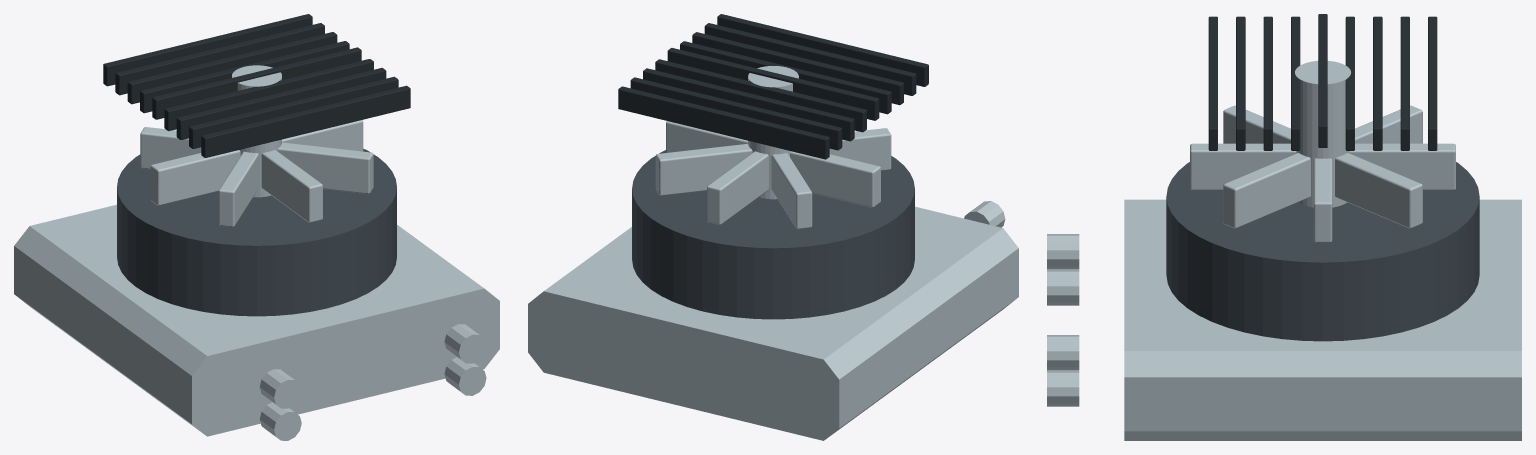
Rendered from data-centre-infiltration-kit-data-centre-infiltration--d4119225__29247.glb.
The picture shows the model from 3 angles, left to right: view 1: azimuth 30°, elevation 25°; view 2: azimuth 150°, elevation 25°; view 3: azimuth 270°, elevation 25°; orthographic projection. The views are drawn at different scales.
Visible parts, largest first — view 1: data-centre-infiltration-kit-fan-cartridge; view 2: data-centre-infiltration-kit-fan-cartridge; view 3: data-centre-infiltration-kit-fan-cartridge.
Part boxes in pixels (left/top/right/bottom): data-centre-infiltration-kit-fan-cartridge: left=14, top=14, right=499, bottom=440; data-centre-infiltration-kit-fan-cartridge: left=528, top=14, right=1018, bottom=440; data-centre-infiltration-kit-fan-cartridge: left=1047, top=14, right=1521, bottom=440.
Size of the model in its own units: 0.16 by 0.1312 by 0.191.
